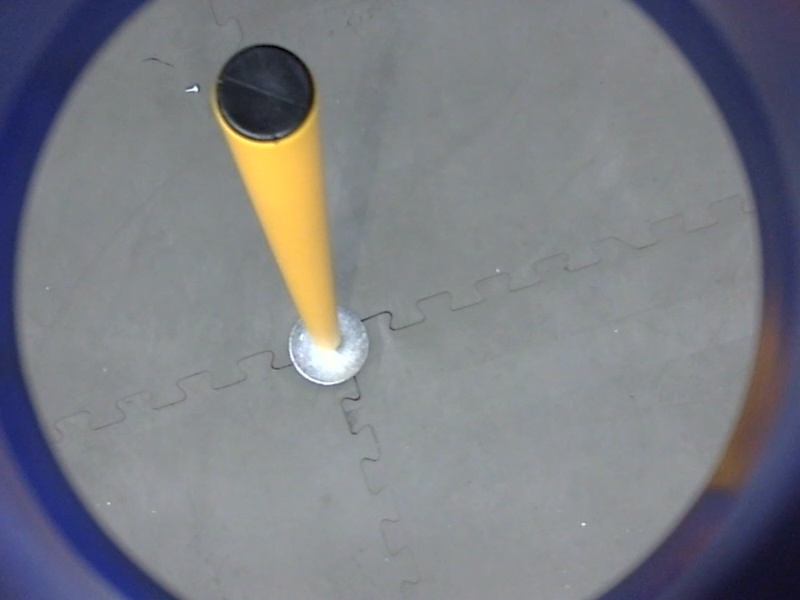tip: (205, 39, 326, 150)
